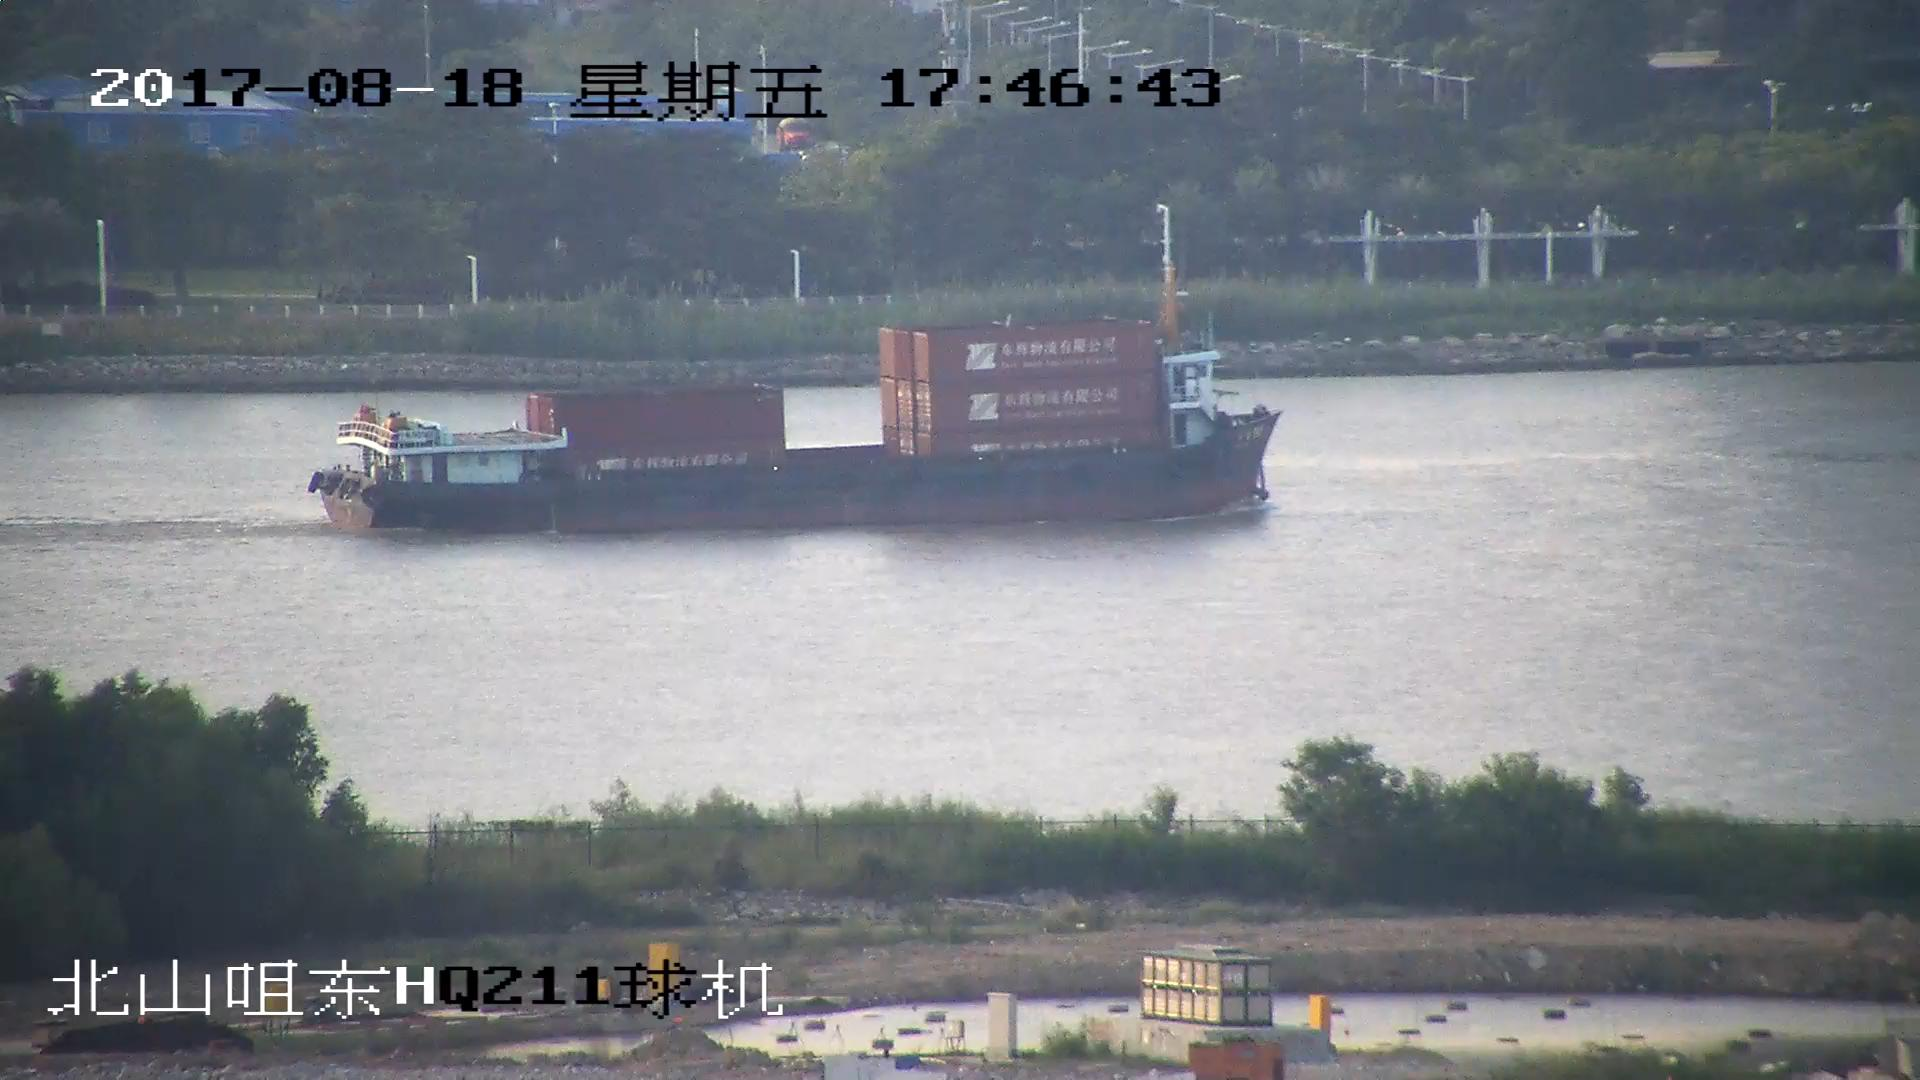container ship: (310, 231, 1293, 535)
